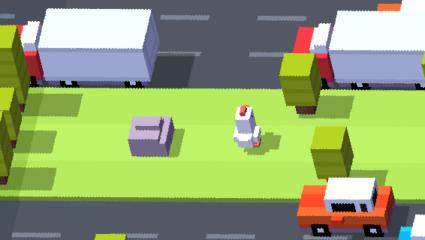hen: (233, 105, 263, 148)
obstacle: (28, 6, 156, 85), (331, 13, 424, 88), (301, 177, 394, 237), (295, 24, 332, 88), (311, 127, 355, 180), (279, 54, 317, 114), (0, 26, 27, 108), (128, 115, 174, 156), (0, 87, 23, 136), (0, 115, 10, 184), (399, 217, 425, 240), (411, 214, 425, 239), (95, 234, 129, 240)
